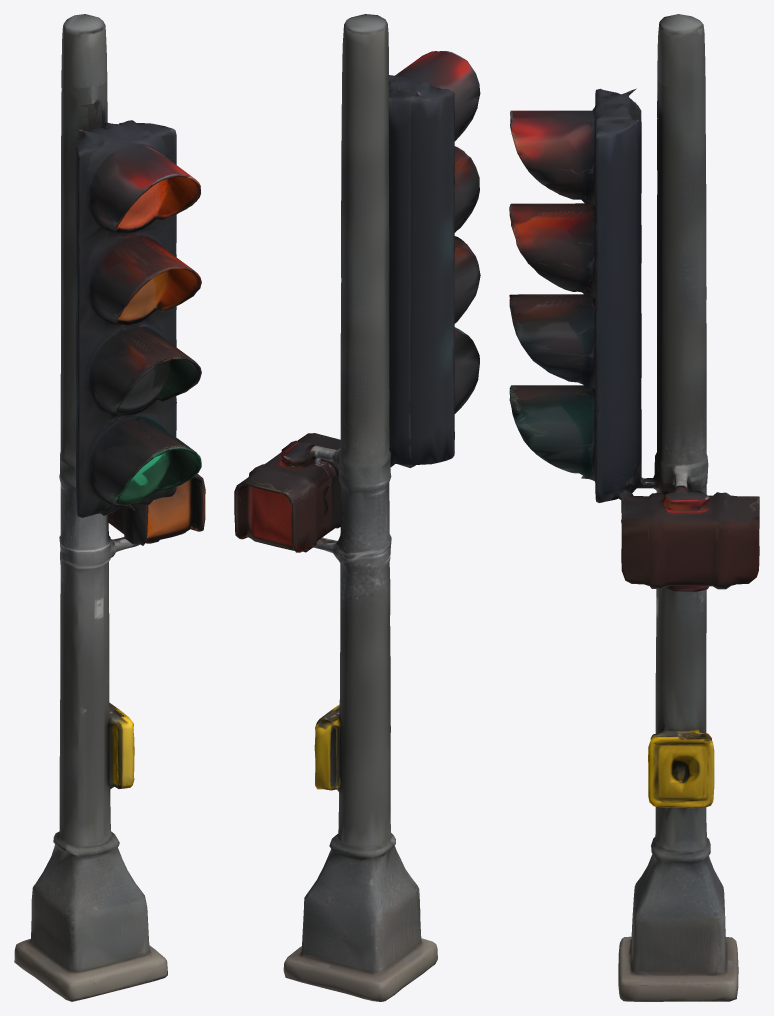
The model's file is trafiklambasi.fbx.
3 views of the same model, side by side, from view 1: azimuth 30°, elevation 25°; view 2: azimuth 150°, elevation 25°; view 3: azimuth 270°, elevation 25° (orthographic).
Visible parts, largest first — view 1: Mesh_0; view 2: Mesh_0; view 3: Mesh_0.
Boxes of the visible parts, left/top/right/bottom form: Mesh_0: left=14, top=14, right=205, bottom=1001; Mesh_0: left=234, top=14, right=480, bottom=1001; Mesh_0: left=509, top=14, right=759, bottom=1001.
Bounding box in the file's own units: 29.76 × 191 × 45.45.
Materials: 1 (1 with a texture image).
